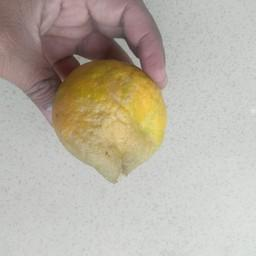Good_orange: (51, 49, 168, 184)
